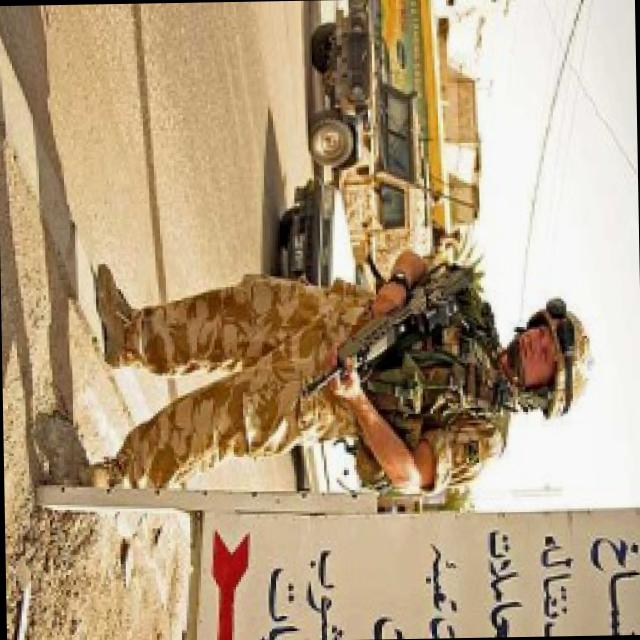long weapon: (274, 237, 472, 405)
